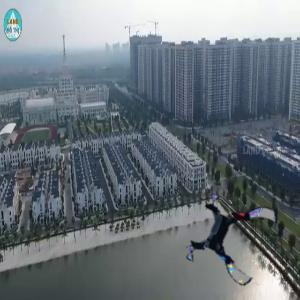drone: (191, 194, 277, 280)
